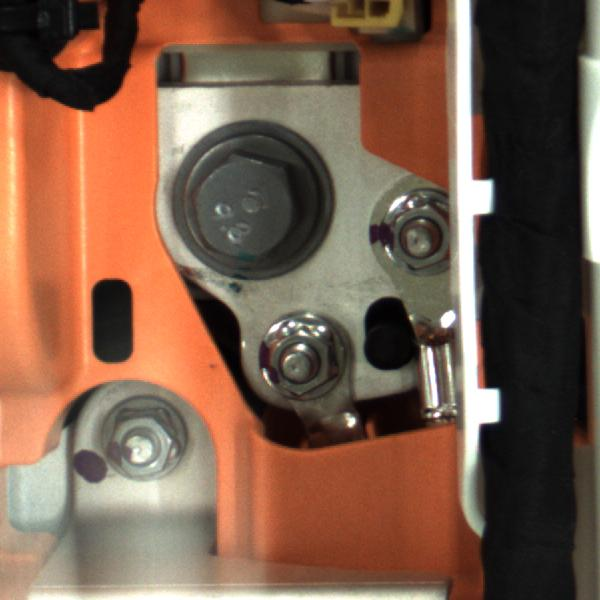nut_b: (164, 108, 334, 286)
screw_s: (250, 305, 353, 406), (375, 181, 454, 278), (96, 405, 190, 484)
